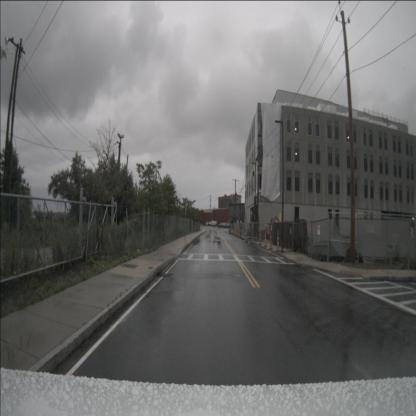movable_object-trafficcone: (268, 229, 274, 250), (275, 229, 280, 252), (264, 228, 268, 248), (258, 228, 262, 245), (238, 230, 241, 239)
vehicle-car: (209, 220, 217, 228)
